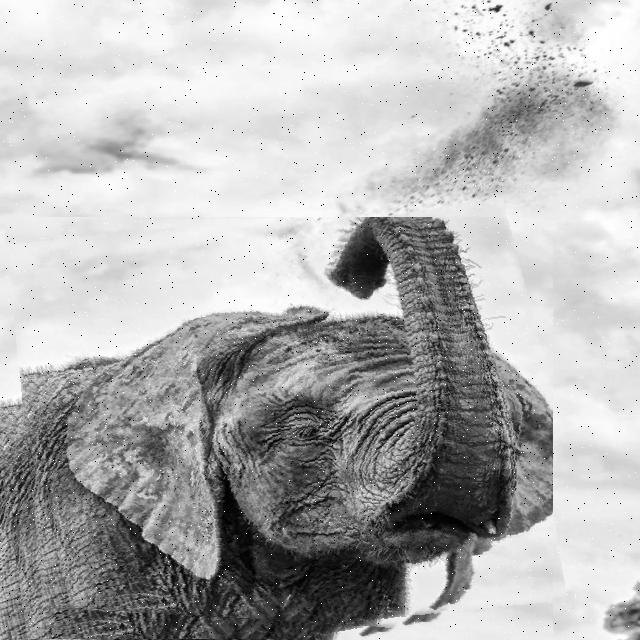elephant: (0, 217, 553, 640)
